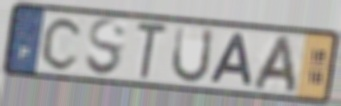A: (249, 33, 299, 95), (207, 31, 255, 88)
C: (39, 15, 86, 73)
S: (83, 17, 128, 79)
T: (134, 19, 170, 81)
U: (169, 24, 216, 85)
